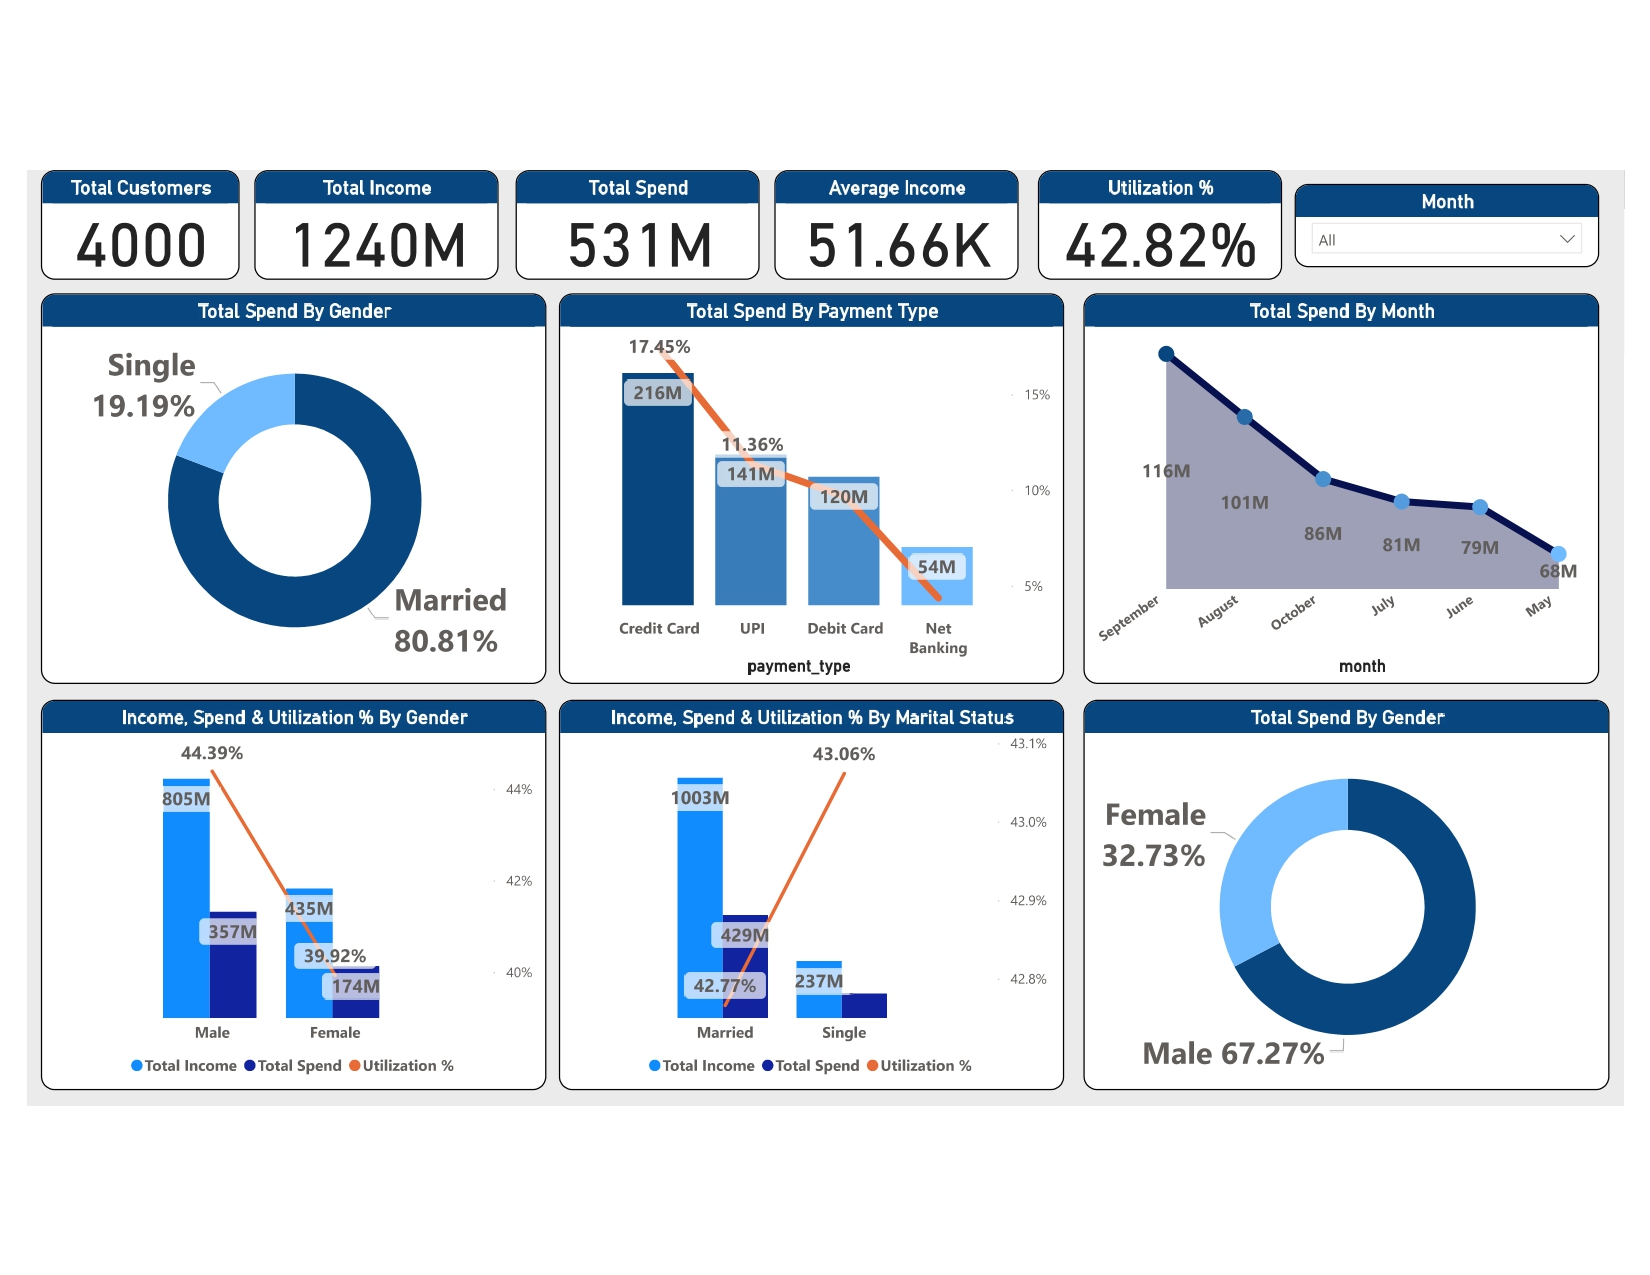

The page's visual inventory and layout, read from the dashboard file:
{"tool":"powerbi","page":{"name":"Spend Analysis 2","canvas":[1400,820],"ordinal":2},"visuals":[{"type":"card","title":"Total Customers","fields":{"Values":["Count(dim_customers.customer_id)"]},"box":[11.6,0,174.2,96.2],"z":0},{"type":"card","title":"Average Income","fields":{"Values":["Avg(dim_customers.avg_income)"]},"box":[655.2,0,214,96.2],"z":1000},{"type":"card","title":"Total Income","fields":{"Values":["dim_customers.Total Income"]},"box":[199.1,0,214,96.2],"z":2000},{"type":"card","title":"Total Spend","fields":{"Values":["Sum(fact_spends.spend)"]},"box":[428,0,214,96.2],"z":3000},{"type":"card","title":"Utilization %","fields":{"Values":["dim_customers.Utilization %"]},"box":[885.8,0,214,96.2],"z":4000},{"type":"lineClusteredColumnComboChart","title":"Income, Spend & Utilization % By Gender","fields":{"Y":["dim_customers.Total Income","Sum(fact_spends.spend)"],"Y2":["dim_customers.Utilization %"],"Category":["dim_customers.gender"]},"box":[11.6,464.5,442.9,341.7],"z":5000},{"type":"lineStackedColumnComboChart","title":"Total Spend By Payment Type","fields":{"Y":["Sum(fact_spends.spend)"],"Y2":["dim_customers.Utilization %"],"Category":["fact_spends.payment_type"]},"box":[466.1,107.8,442.9,341.7],"z":6000},{"type":"lineClusteredColumnComboChart","title":"Income, Spend & Utilization % By Marital Status","fields":{"Y":["dim_customers.Total Income","Sum(fact_spends.spend)"],"Y2":["dim_customers.Utilization %"],"Category":["dim_customers.marital status"]},"box":[466.1,464.5,442.9,341.7],"z":8000},{"type":"stackedAreaChart","title":"Total Spend By Month","fields":{"Category":["fact_spends.month"],"Y":["Sum(fact_spends.spend)"]},"box":[925.6,107.8,452.8,341.7],"z":9000},{"type":"donutChart","title":"Total Spend By Gender","fields":{"Y":["Sum(fact_spends.spend)"],"Category":["dim_customers.gender"]},"box":[925.6,464.5,461.1,341.7],"z":9001},{"type":"donutChart","title":"Total Spend By Gender","fields":{"Y":["Sum(fact_spends.spend)"],"Category":["dim_customers.marital status"]},"box":[11.6,107.8,442.9,341.7],"z":9002},{"type":"slicer","title":"Month","fields":{"Values":["fact_spends.month"]},"box":[1111.4,11.6,267.1,73],"z":9003}]}

Visuals, with their boxes on the page's 1400x820 design canvas (x1, y1, x2, y2). These are canvas units, not pixel positions in the 1650x1275 screenshot, which may show the page scaled, cropped or inside an application window:
"Total Customers" card: box(12, 0, 186, 96)
"Average Income" card: box(655, 0, 869, 96)
"Total Income" card: box(199, 0, 413, 96)
"Total Spend" card: box(428, 0, 642, 96)
"Utilization %" card: box(886, 0, 1100, 96)
"Income, Spend & Utilization % By Gender" lineClusteredColumnComboChart: box(12, 464, 454, 806)
"Total Spend By Payment Type" lineStackedColumnComboChart: box(466, 108, 909, 450)
"Income, Spend & Utilization % By Marital Status" lineClusteredColumnComboChart: box(466, 464, 909, 806)
"Total Spend By Month" stackedAreaChart: box(926, 108, 1378, 450)
"Total Spend By Gender" donutChart: box(926, 464, 1387, 806)
"Total Spend By Gender" donutChart: box(12, 108, 454, 450)
"Month" slicer: box(1111, 12, 1378, 85)
